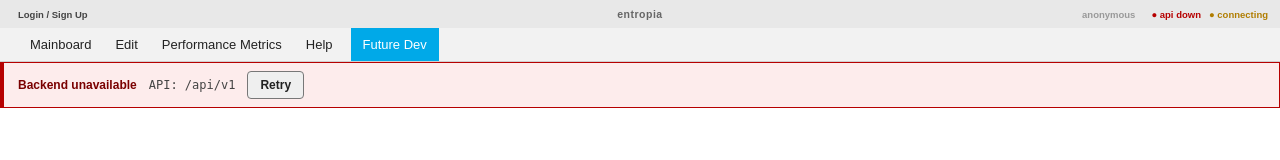
Test: app shell backend availability (R2-10) › recovers via the user Retry action once the backend answers again
What coordinates should you click on to do the following:
click the button "Retry"
I would click on:
 (276, 85)
Its box is [247, 71, 304, 99].
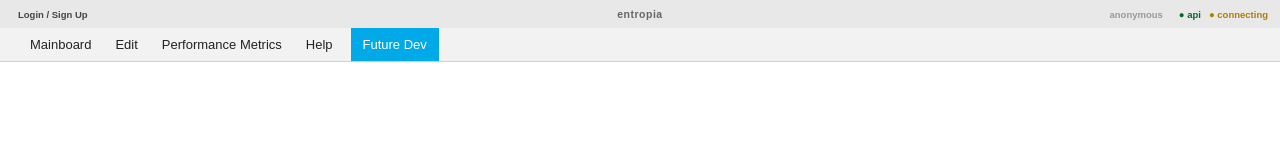
Now the text "Backend unavailable" is gone
